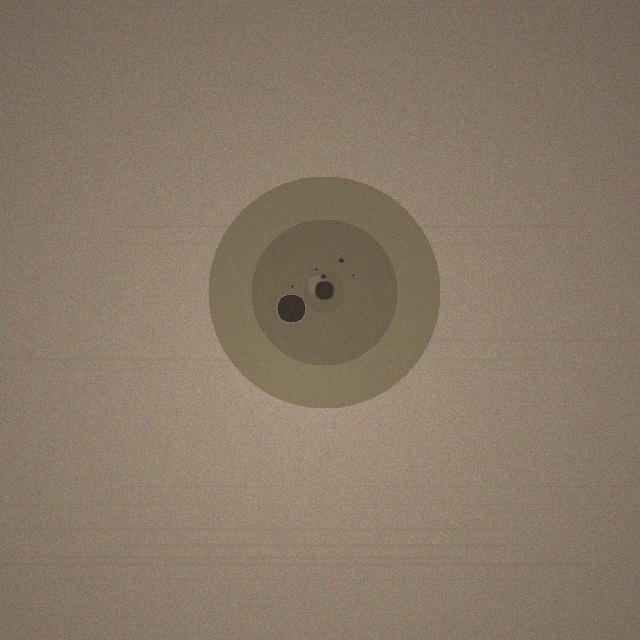shrinkage: (208, 176, 440, 408)
